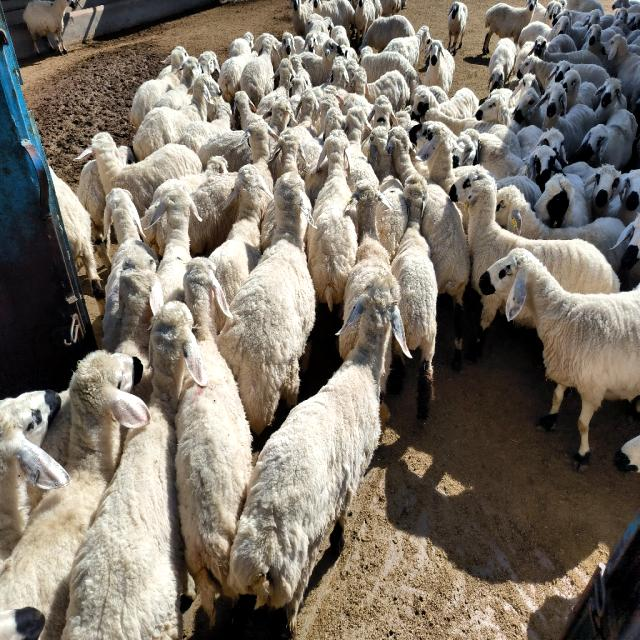sheep: (229, 273, 411, 631), (62, 300, 208, 638), (0, 350, 150, 638), (479, 248, 640, 462), (175, 258, 251, 621), (218, 172, 315, 434), (449, 168, 620, 292), (388, 127, 471, 366), (0, 390, 69, 564), (496, 185, 628, 272), (391, 182, 438, 419), (75, 132, 202, 216), (102, 188, 158, 370), (308, 130, 358, 311), (209, 165, 272, 301), (132, 73, 221, 161), (148, 180, 199, 314), (344, 180, 391, 319), (411, 100, 521, 157), (369, 118, 408, 260), (418, 122, 489, 192), (478, 133, 562, 190), (130, 47, 188, 128), (541, 82, 598, 158), (189, 172, 239, 257), (570, 110, 638, 170), (516, 55, 609, 91), (564, 162, 621, 219), (410, 122, 456, 192), (534, 173, 590, 228), (344, 107, 379, 191), (482, 0, 536, 54), (604, 35, 640, 112), (240, 38, 280, 107), (178, 102, 232, 152), (154, 58, 201, 109), (246, 118, 278, 192), (256, 58, 295, 116), (199, 130, 252, 172), (384, 25, 430, 68), (528, 37, 601, 64), (301, 38, 342, 86), (362, 15, 415, 51), (219, 52, 257, 102), (475, 92, 521, 132), (474, 295, 502, 358), (179, 157, 228, 193), (368, 70, 410, 112), (608, 170, 640, 225), (518, 15, 571, 48), (286, 88, 319, 140), (361, 48, 411, 82), (312, 57, 349, 102), (424, 40, 455, 93), (252, 32, 296, 69), (560, 70, 598, 111), (595, 78, 628, 124), (494, 175, 541, 206), (489, 38, 516, 91), (512, 87, 545, 128), (275, 132, 304, 174), (448, 2, 468, 54), (584, 25, 606, 66), (269, 97, 292, 135), (260, 200, 276, 251), (235, 90, 254, 129), (339, 325, 359, 359), (229, 32, 254, 58), (294, 32, 319, 54), (589, 10, 615, 30)
